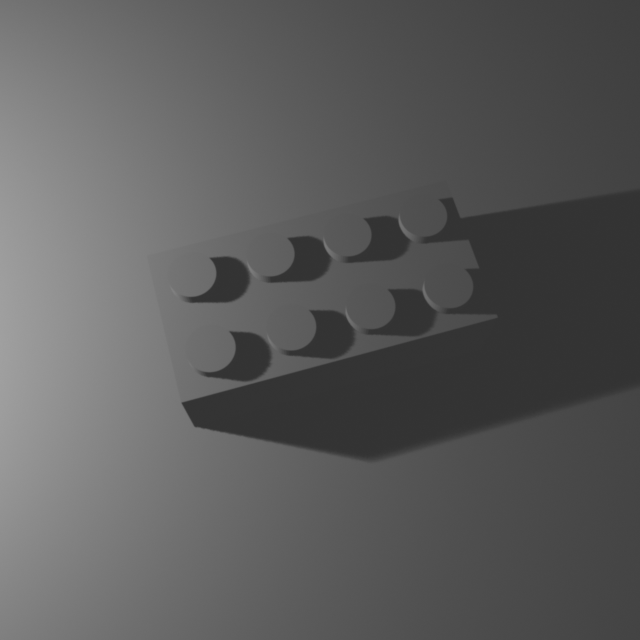lego_2x4: (144, 173, 501, 427)
